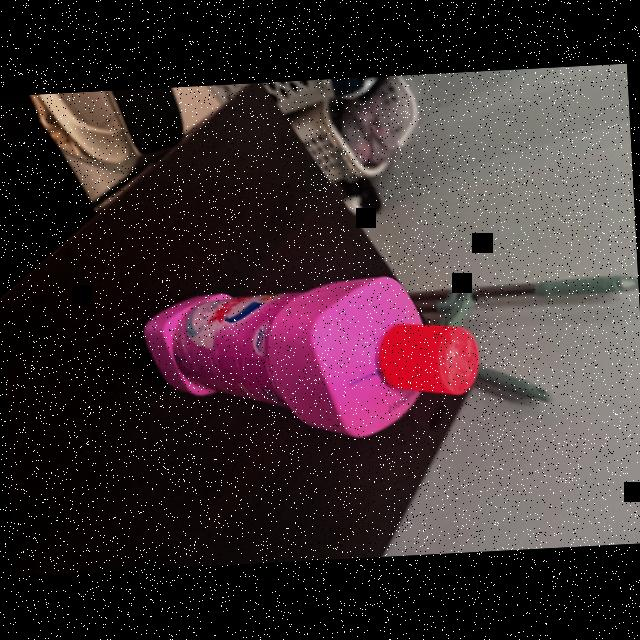chemical_plastic_bottle: (138, 264, 488, 455)
